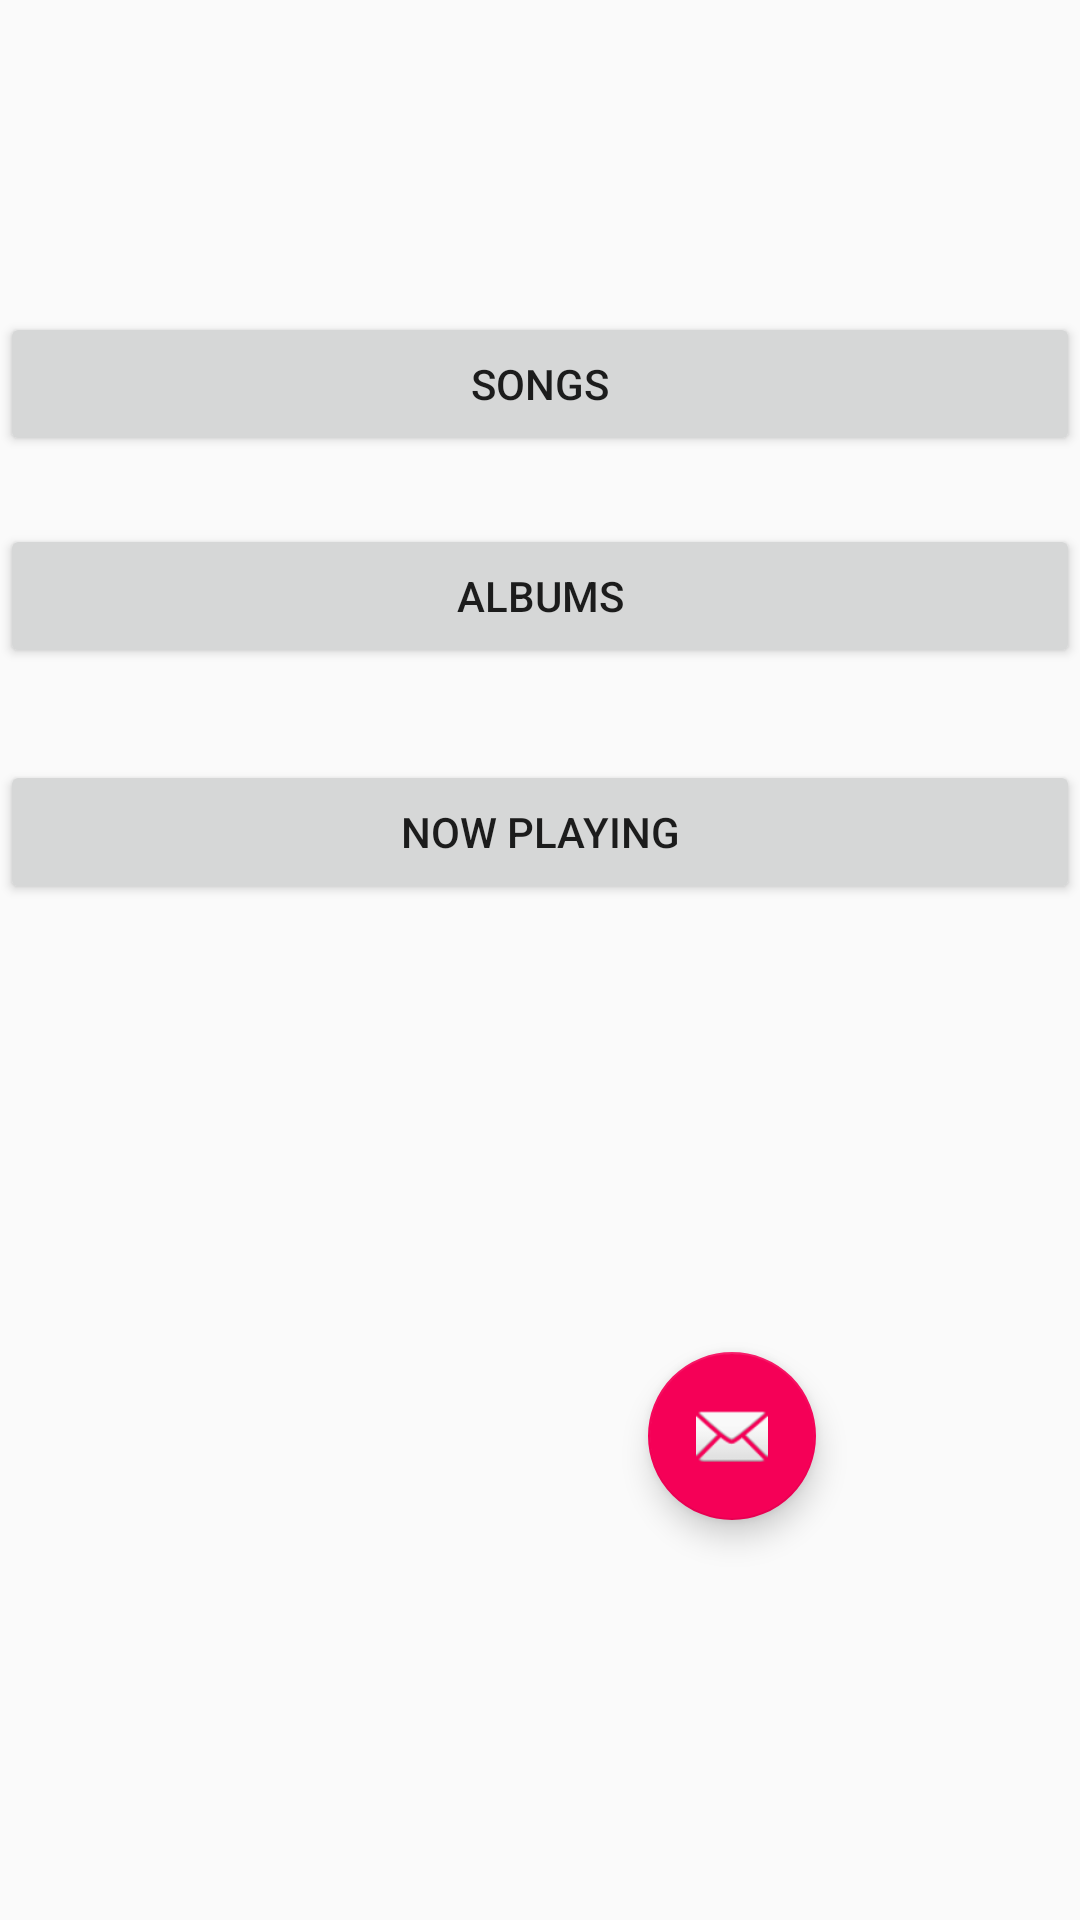

Locate icon controls on the screen. Image size 1080px×1920px, boxes as (x1, y1, x2, y2).
email: (648, 1352, 816, 1520)
